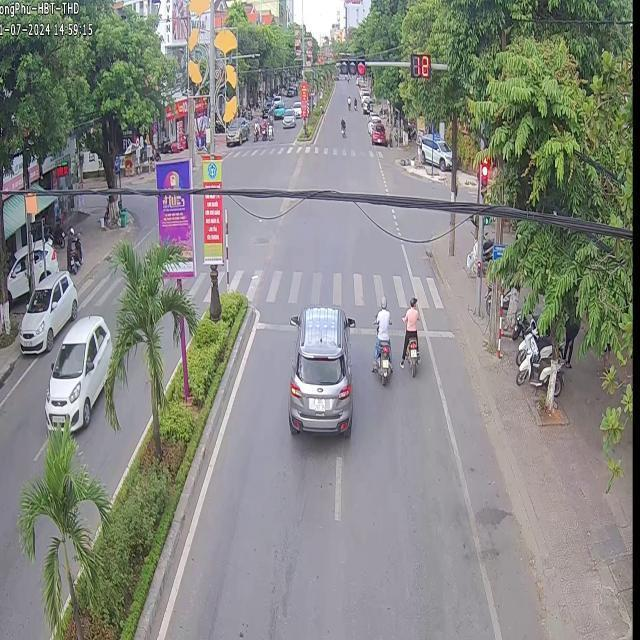car: (287, 305, 353, 436), (43, 314, 110, 429), (17, 269, 77, 351)
motobike: (404, 334, 418, 376), (376, 340, 389, 382)
red_light: (409, 54, 429, 77), (340, 60, 365, 75), (479, 156, 487, 201)
stop_line: (256, 320, 293, 329), (348, 325, 373, 334)
